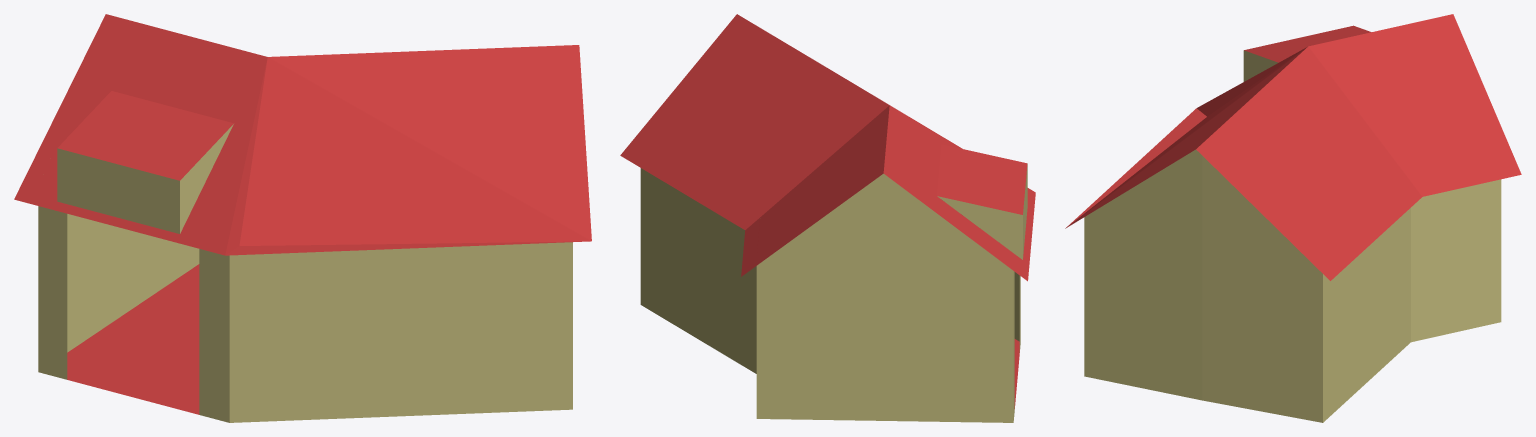
3 views of the same model, side by side, from view 1: azimuth 30°, elevation 25°; view 2: azimuth 150°, elevation 25°; view 3: azimuth 270°, elevation 25° (orthographic). The views are drawn at different scales.
Bounding box in the file's own units: 25.27 × 22.69 × 14.06.
